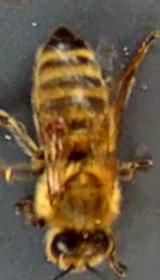varroa_mite: (40, 115, 71, 145)
